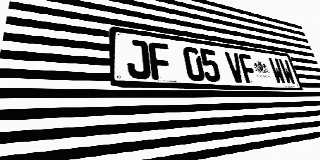0: (182, 46, 206, 82)
5: (199, 48, 222, 82)
F: (148, 42, 173, 80), (238, 53, 259, 84)
J: (125, 39, 151, 80)
V: (224, 52, 246, 83)
W: (268, 57, 287, 85), (278, 59, 297, 85)
